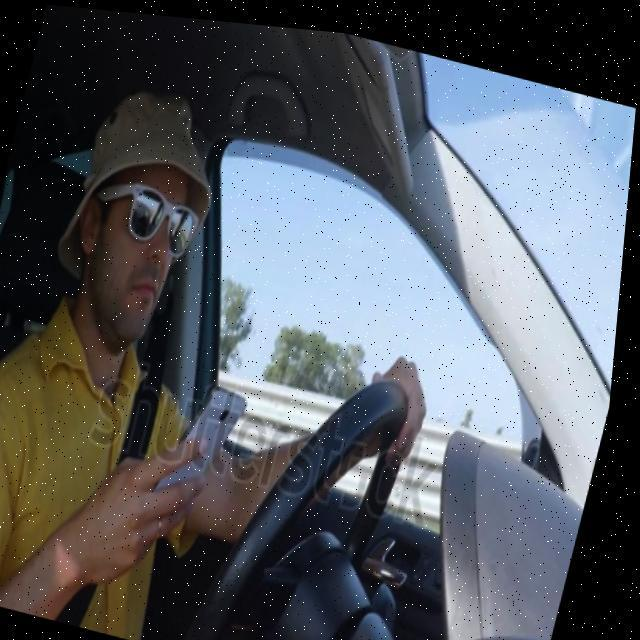PhoneCall: (154, 365, 258, 521)
